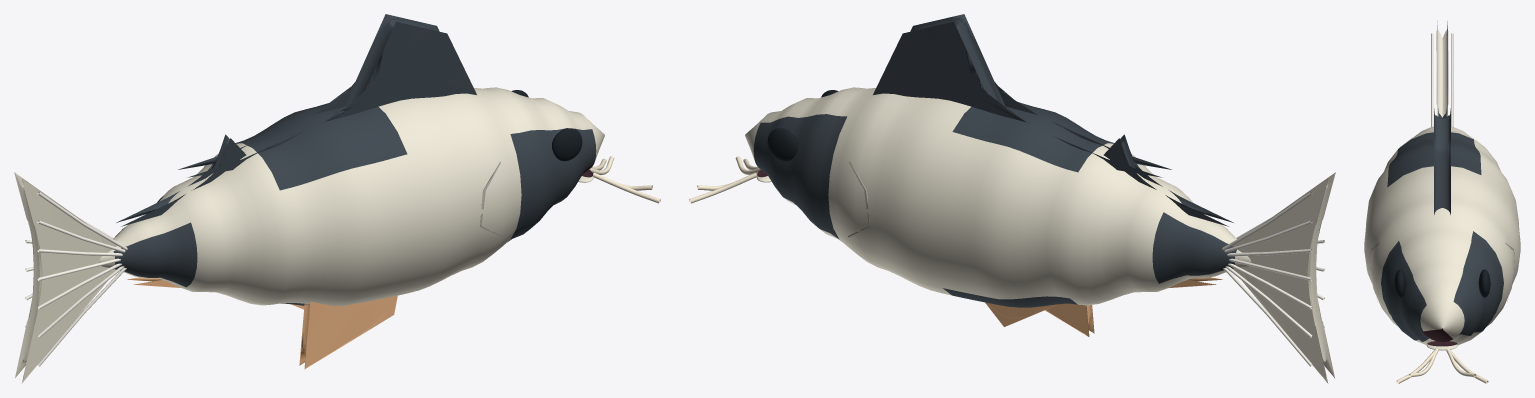
Rendered from PandaCory_Refined.fbx.
3 views of the same model, side by side, from view 1: azimuth 30°, elevation 25°; view 2: azimuth 150°, elevation 25°; view 3: azimuth 270°, elevation 25° (orthographic). The views are drawn at different scales.
Visible parts, largest first — view 1: Panda cory rounded body, Panda cory dark dorsal fin, Panda cory caudal fin, Panda cory pectoral fin, Panda cory adipose fin, Panda cory eye; view 2: Panda cory rounded body, Panda cory dark dorsal fin, Panda cory caudal fin, Panda cory adipose fin, Panda cory anal fin, Panda cory pectoral fin, Panda cory eye.001; view 3: Panda cory rounded body, Panda cory dark dorsal fin, Panda cory caudal fin, Panda cory eye, Panda cory eye.001, Panda caudal ray.006, Panda caudal ray.013, Panda cory barbel.001, Panda cory barbel.003, Panda cory barbel, Panda cory barbel.002.
Boxes of the visible parts, x1,y1,x2,y2 form: Panda cory rounded body: [98, 87, 604, 305]; Panda cory dark dorsal fin: [178, 14, 476, 177]; Panda cory caudal fin: [14, 172, 117, 383]; Panda cory pectoral fin: [299, 295, 397, 369]; Panda cory adipose fin: [116, 134, 246, 226]; Panda cory eye: [552, 128, 582, 161]; Panda cory rounded body: [745, 87, 1251, 307]; Panda cory dark dorsal fin: [873, 14, 1171, 177]; Panda cory caudal fin: [1232, 172, 1335, 383]; Panda cory adipose fin: [1103, 134, 1233, 226]; Panda cory anal fin: [985, 277, 1222, 326]; Panda cory pectoral fin: [1045, 303, 1094, 336]; Panda cory eye.001: [767, 128, 797, 161]; Panda cory rounded body: [1364, 126, 1520, 345]; Panda cory dark dorsal fin: [1434, 108, 1450, 214]; Panda cory caudal fin: [1436, 21, 1448, 117]; Panda cory eye: [1394, 269, 1406, 297]; Panda cory eye.001: [1478, 269, 1490, 297]; Panda caudal ray.006: [1431, 33, 1433, 126]; Panda caudal ray.013: [1451, 33, 1453, 126]; Panda cory barbel.001: [1396, 348, 1437, 383]; Panda cory barbel.003: [1447, 348, 1488, 383]; Panda cory barbel: [1408, 349, 1438, 377]; Panda cory barbel.002: [1446, 349, 1476, 377].
Bounding box in the file's own units: 154 × 73.22 × 41.97.
